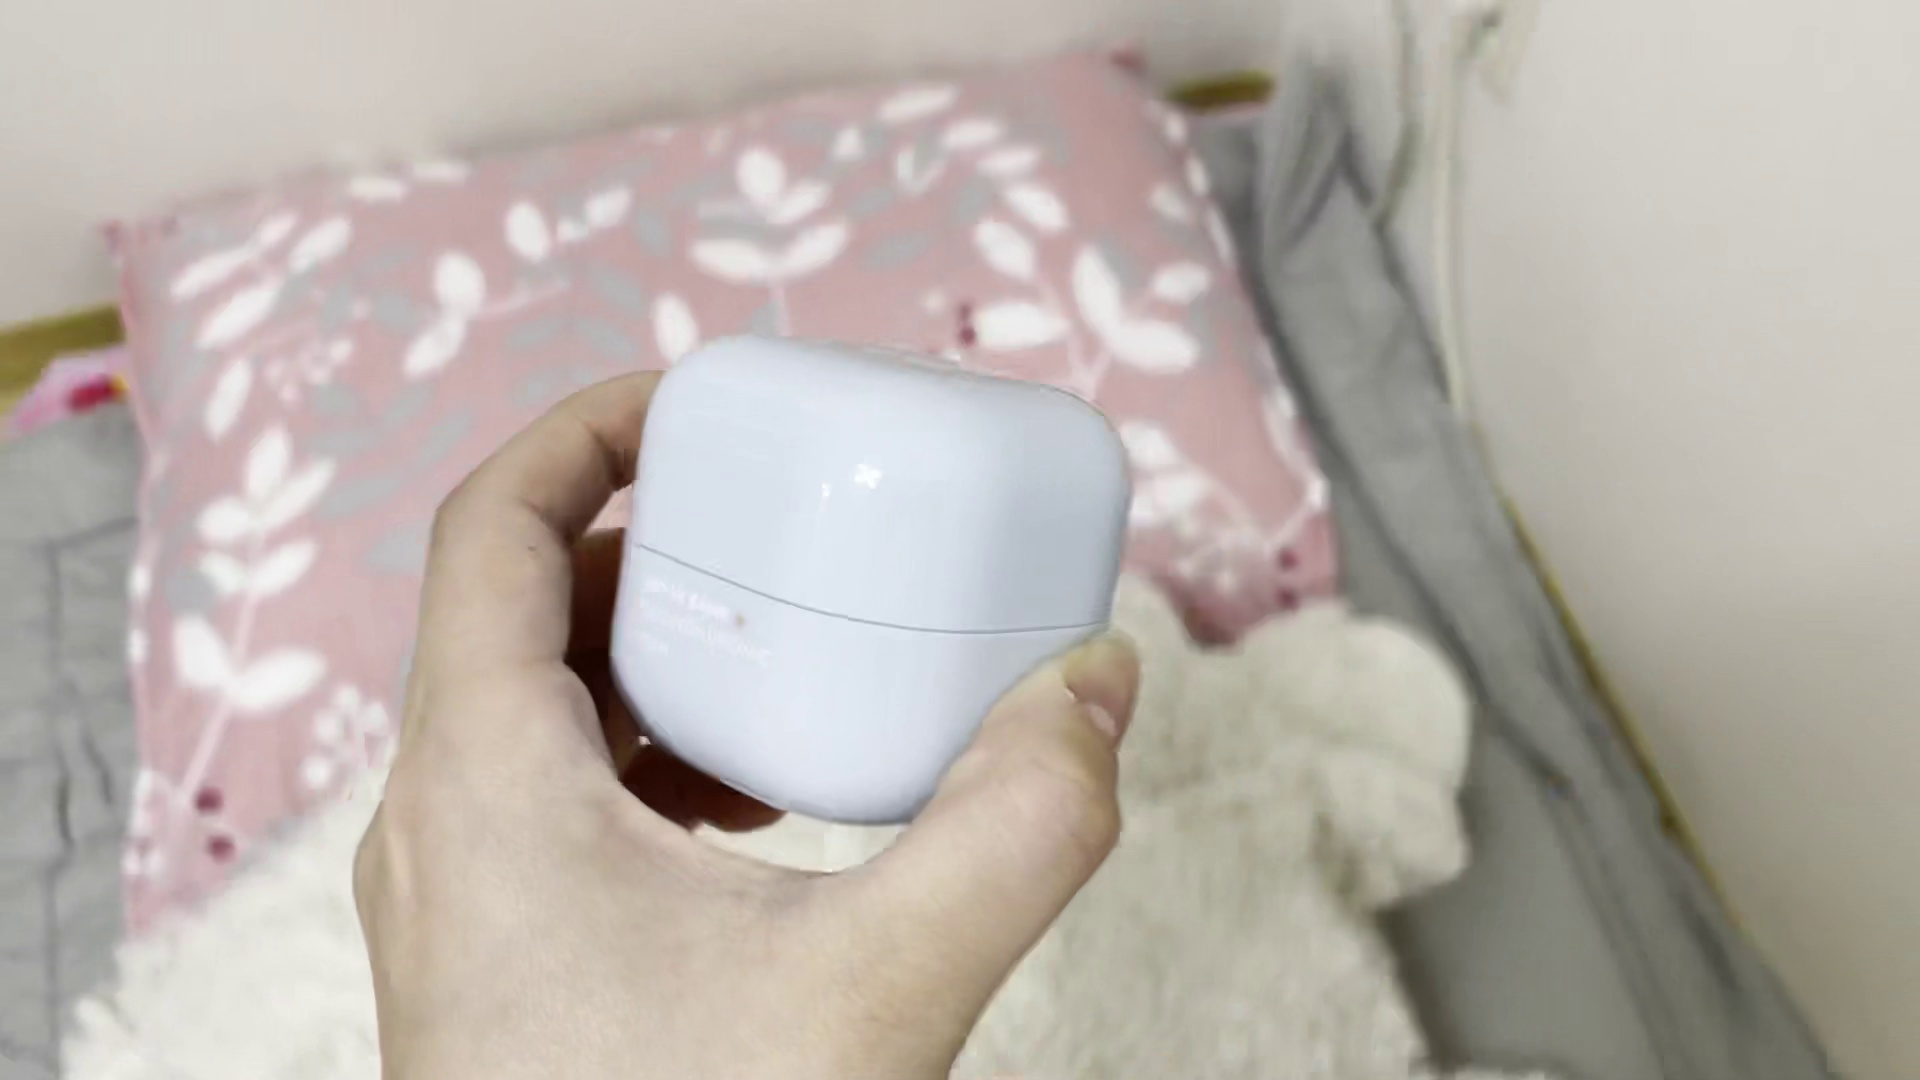cream: (605, 338, 1131, 814)
